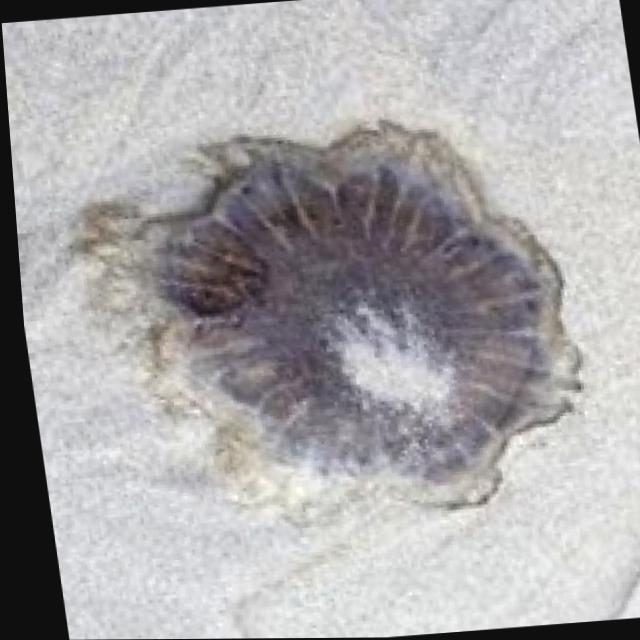Jellyfish: (52, 100, 600, 539)
